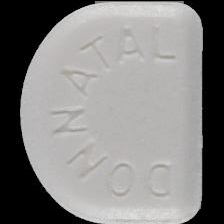0179-0132: (0, 0, 224, 224)
